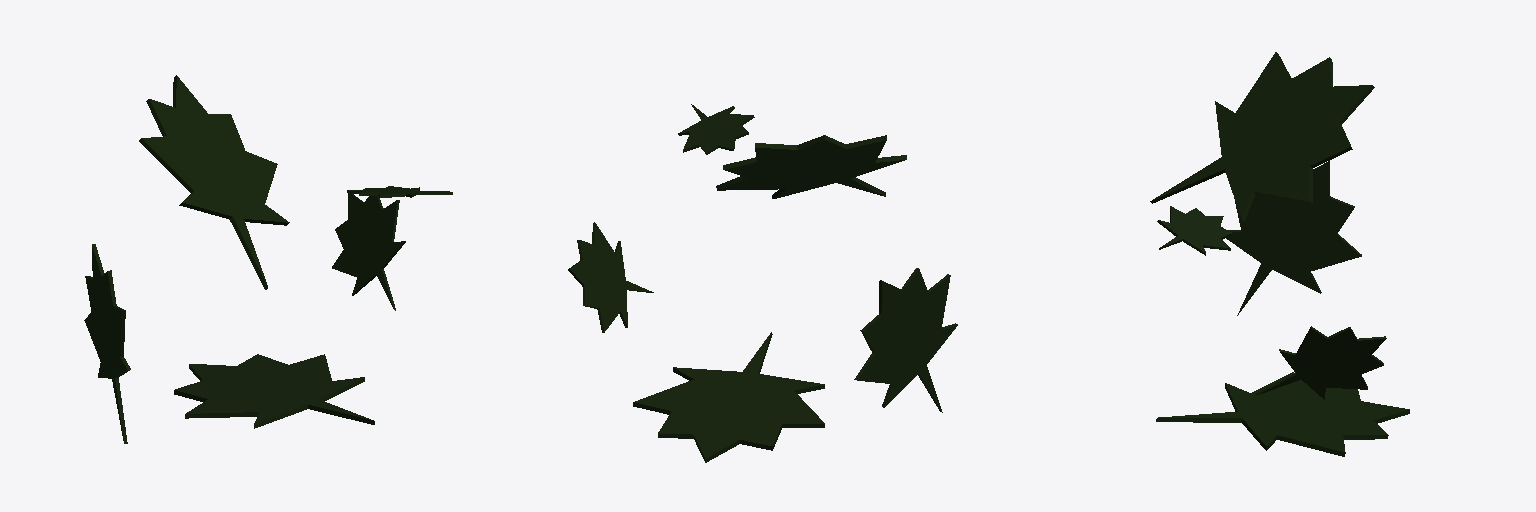
File: leaves_1.obj
3 views of the same model, side by side, from view 1: azimuth 30°, elevation 25°; view 2: azimuth 150°, elevation 25°; view 3: azimuth 270°, elevation 25° (orthographic).
Parts seen in each view (by area): view 1: leaves_1; view 2: leaves_1; view 3: leaves_1.
Part boxes in pixels (bbox=[...]): leaves_1: bbox=[84, 75, 452, 443]; leaves_1: bbox=[568, 104, 957, 462]; leaves_1: bbox=[1150, 52, 1409, 456].
Bounding box in the file's own units: 10.06 × 9.59 × 7.11.